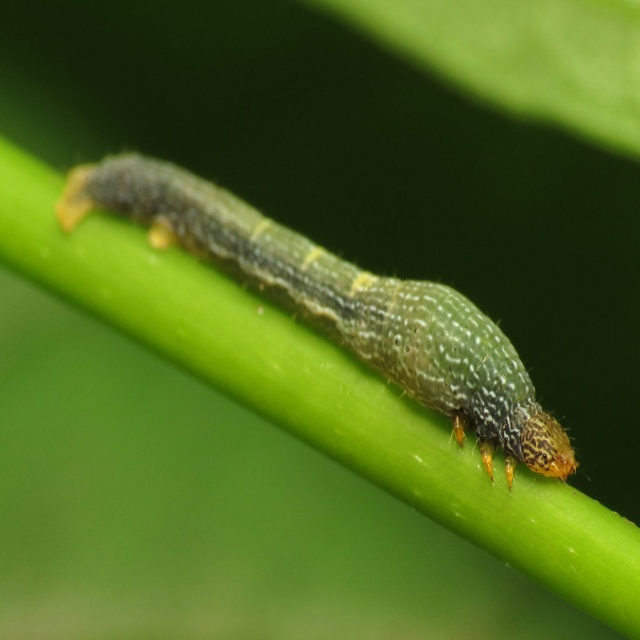Caterpillar: (49, 147, 580, 492)
